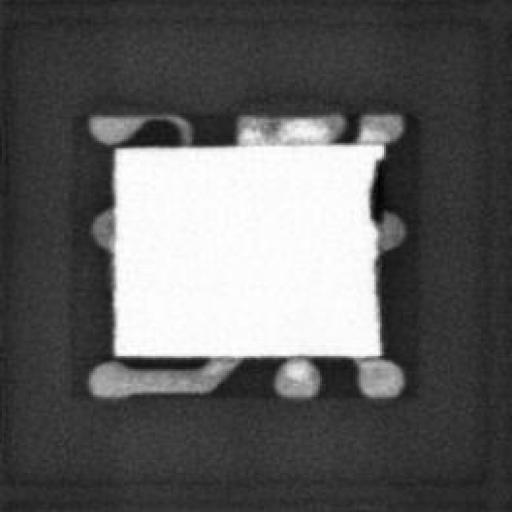DIE_BROKEN: (363, 154, 384, 228)
